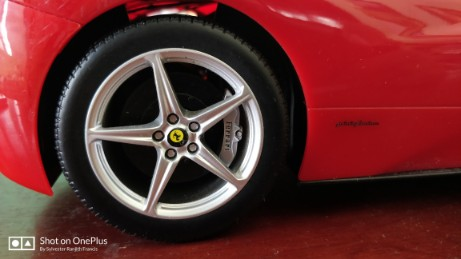aligned_wheel: (55, 18, 294, 238)
